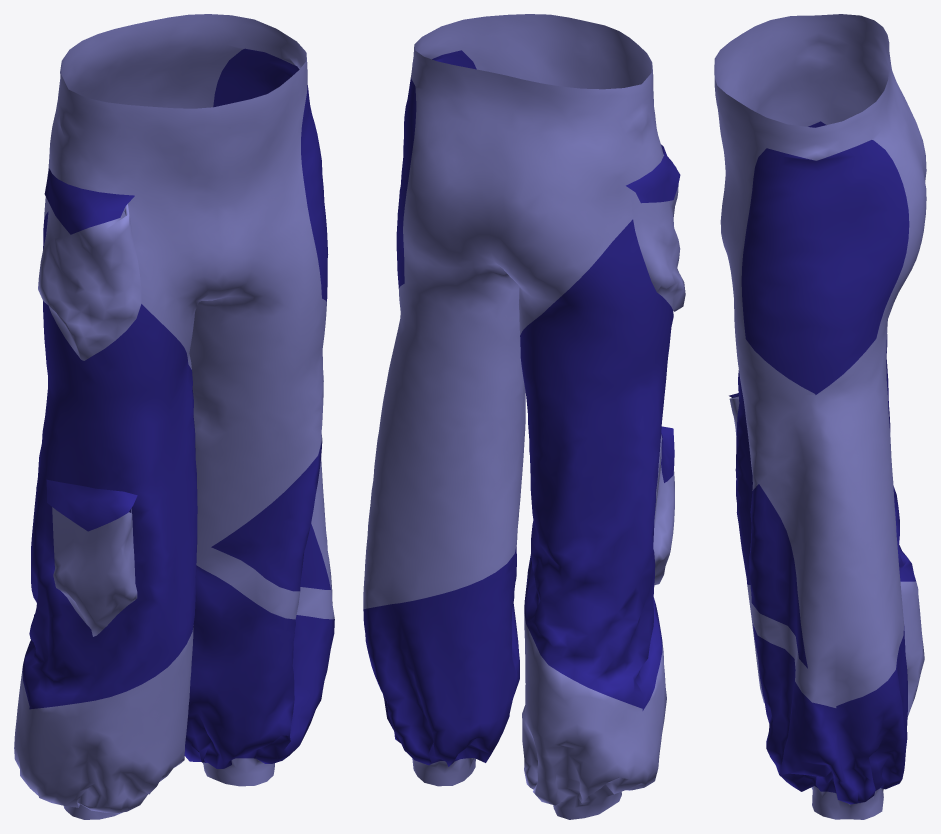
File: Pants.glb
The picture shows the model from 3 angles, left to right: view 1: azimuth 30°, elevation 25°; view 2: azimuth 150°, elevation 25°; view 3: azimuth 270°, elevation 25°; orthographic projection. The views are drawn at different scales.
Parts seen in each view (by area): view 1: Cloth; view 2: Cloth; view 3: Cloth.
Part boxes in pixels (bbox=[...]): Cloth: bbox=[14, 14, 334, 819]; Cloth: bbox=[363, 14, 685, 819]; Cloth: bbox=[714, 14, 926, 819].
Bounding box in the file's own units: 40.19 × 100 × 26.7.
25 materials, 24 textured.
